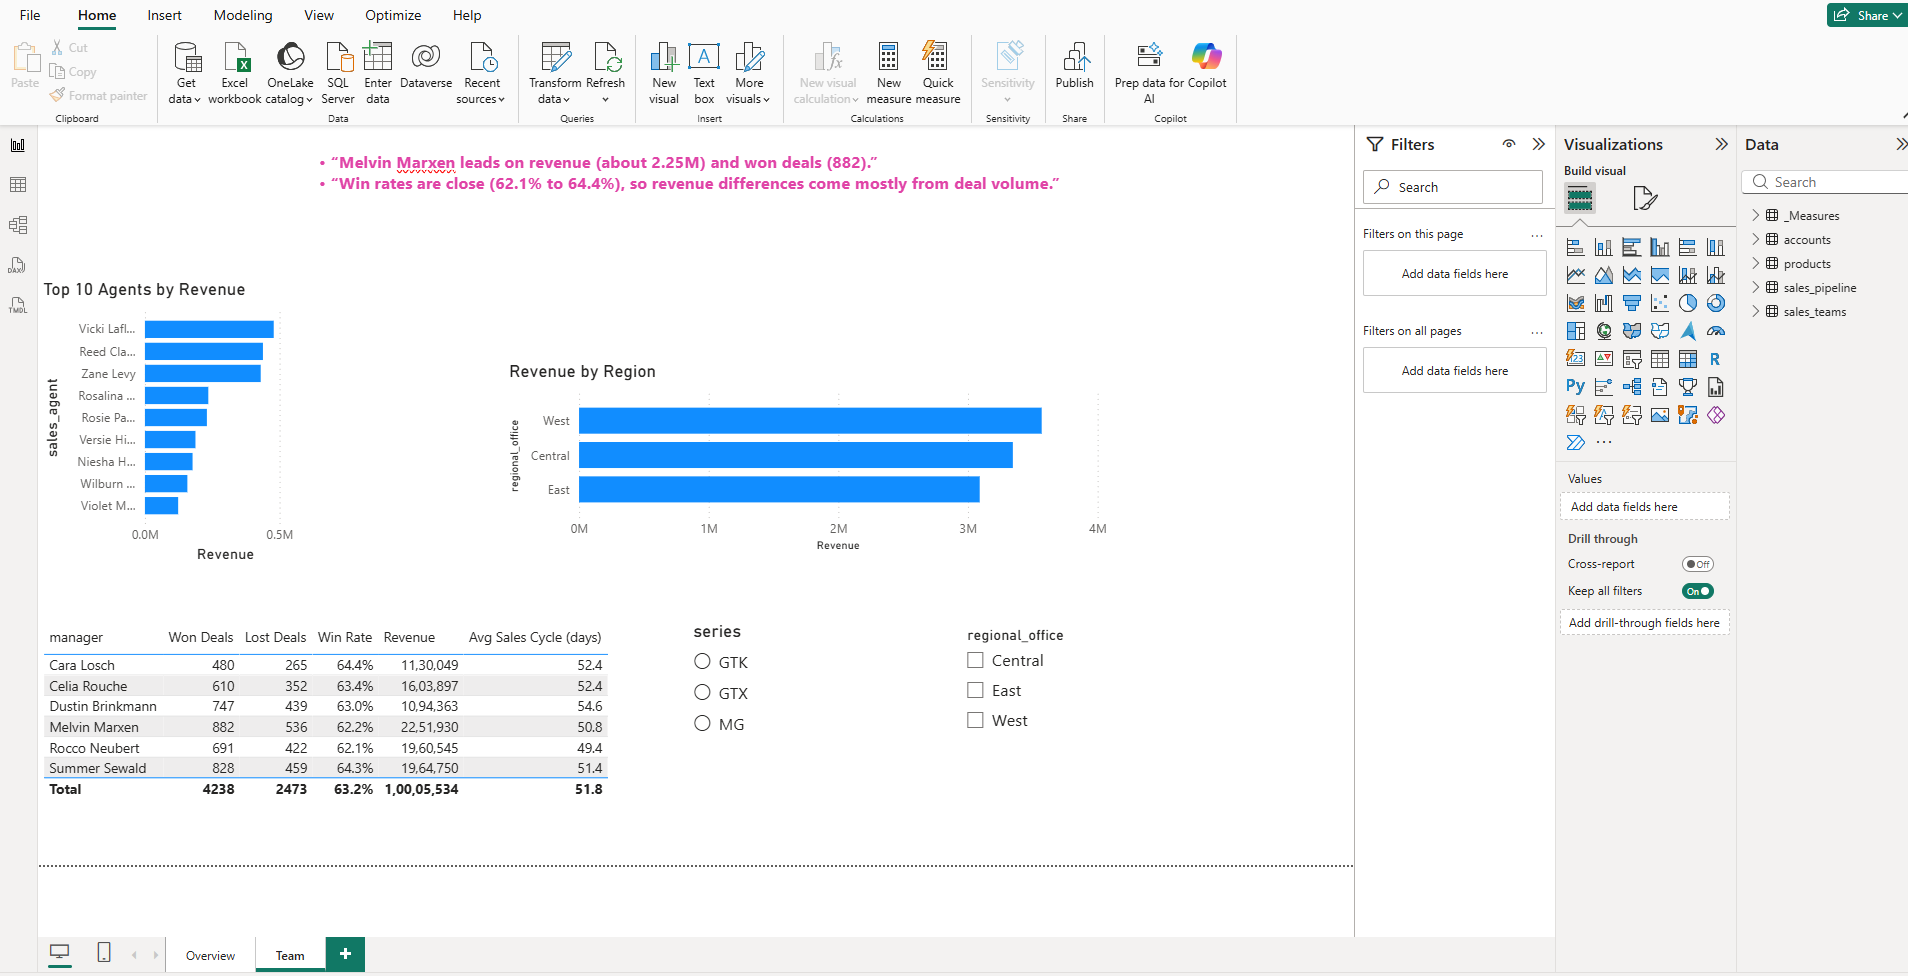

The dashboard page shown, as its layout file describes it:
{"tool":"powerbi","page":{"name":"Team","canvas":[1280,720],"ordinal":1},"visuals":[{"type":"clusteredBarChart","title":"Top 10 Agents by Revenue","fields":{"Category":["sales_teams.sales_agent"],"Y":["_Measures.Revenue"]},"box":[0,149.8,280.1,280.1],"z":0},{"type":"tableEx","fields":{"Values":["sales_teams.manager","_Measures.Won Deals","_Measures.Lost Deals","_Measures.Win Rate","_Measures.Revenue","_Measures.Avg Sales Cycle (days)"]},"box":[0,482.4,591.4,190.6],"z":1000},{"type":"clusteredBarChart","title":"Revenue by Region","fields":{"Y":["_Measures.Revenue"],"Category":["sales_teams.regional_office"]},"box":[453.3,229.5,591.4,190.6],"z":2000},{"type":"listSlicer","fields":{"Values":["products.series"]},"box":[632.2,482.4,212,189.7],"z":3000},{"type":"slicer","fields":{"Values":["sales_teams.regional_office"]},"box":[890.9,482.4,249,190.6],"z":4000},{"type":"textbox","box":[255.8,19.5,788.8,69.1],"z":4001}]}

Visuals, with their boxes on the page's 1280x720 design canvas (x1, y1, x2, y2). These are canvas units, not pixel positions in the 1908x976 screenshot, which may show the page scaled, cropped or inside an application window:
"Top 10 Agents by Revenue" clusteredBarChart: (x1=0, y1=150, x2=280, y2=430)
tableEx - sales_teams.manager x _Measures.Won Deals: (x1=0, y1=482, x2=591, y2=673)
"Revenue by Region" clusteredBarChart: (x1=453, y1=230, x2=1045, y2=420)
listSlicer - products.series: (x1=632, y1=482, x2=844, y2=672)
slicer - sales_teams.regional_office: (x1=891, y1=482, x2=1140, y2=673)
textbox: (x1=256, y1=20, x2=1045, y2=89)
